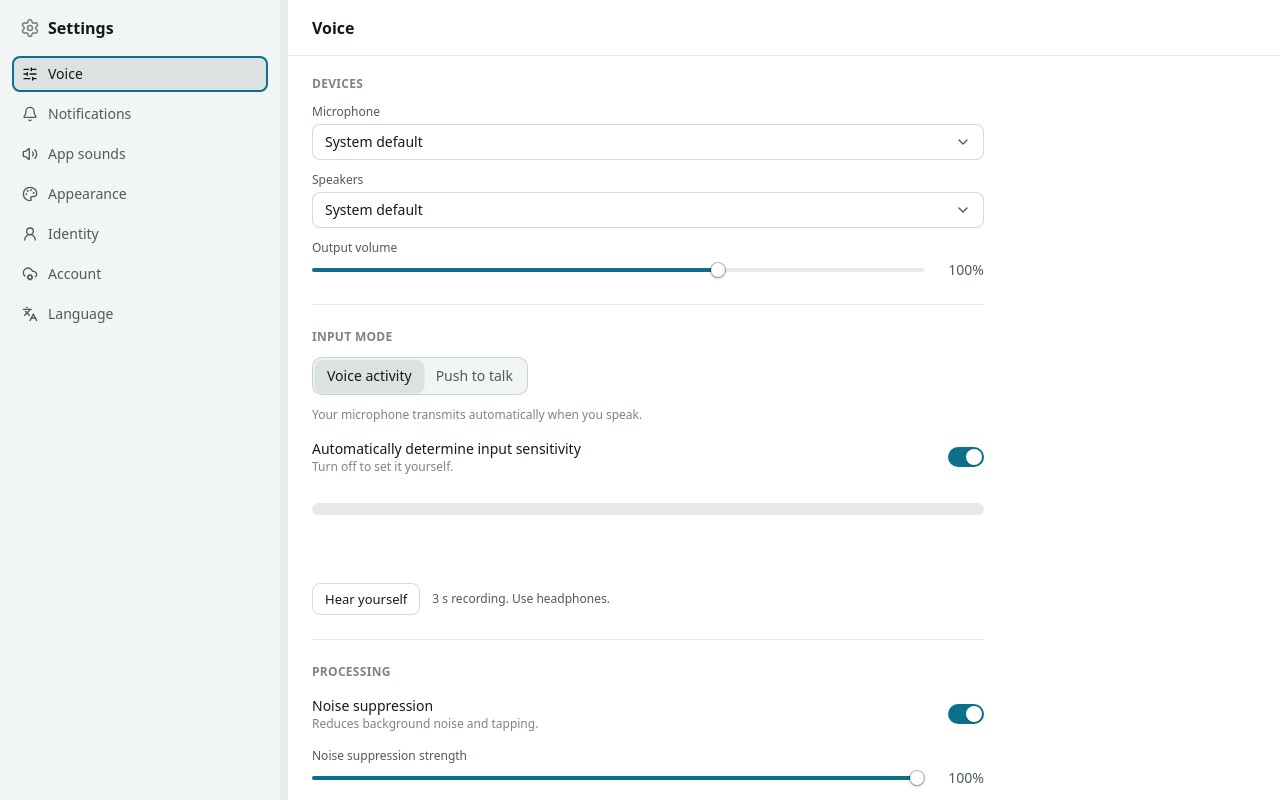
does not restore capture automatically when permission becomes prompt
The image size is (1280, 800).
What coordinates should you click on to do the following:
click the button "Hear yourself"
I would click on:
 (366, 599)
Its box is [312,583,420,615].
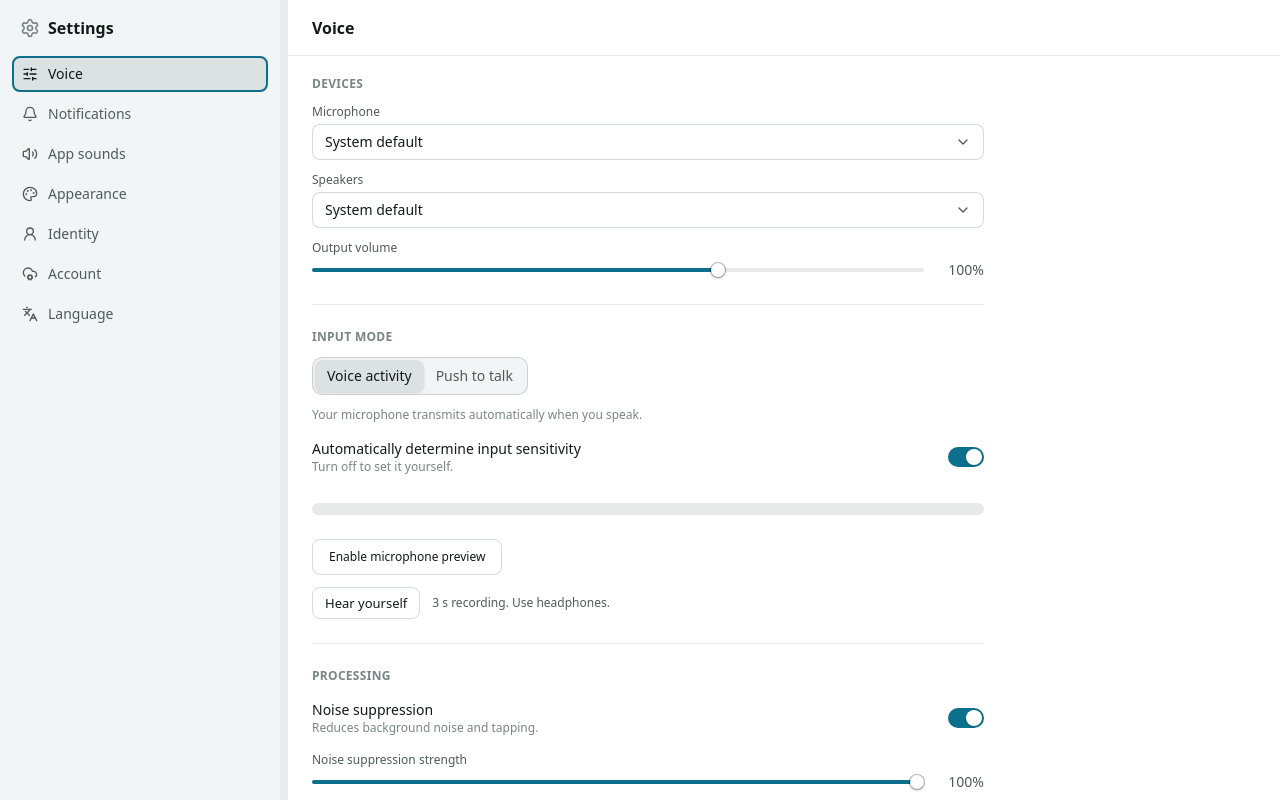
Expected: the button "Enable microphone preview" is shown, [312,539,502,575]
